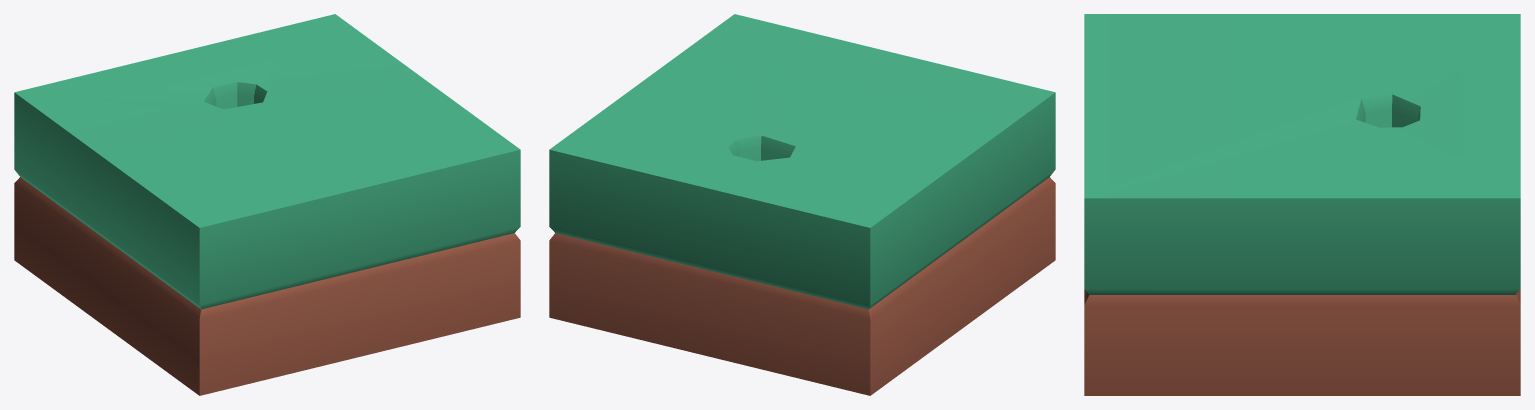
File: TTAng.fbx
3 views of the same model, side by side, from view 1: azimuth 30°, elevation 25°; view 2: azimuth 150°, elevation 25°; view 3: azimuth 270°, elevation 25° (orthographic). The views are drawn at different scales.
Visible parts, largest first — view 1: square_forest_detail; view 2: square_forest_detail; view 3: square_forest_detail.
Boxes of the visible parts, x1,y1,x2,y2 form: square_forest_detail: (14,14,520,395); square_forest_detail: (549,14,1055,395); square_forest_detail: (1084,14,1520,395).
Bounding box in the file's own units: 200 × 100 × 200.
